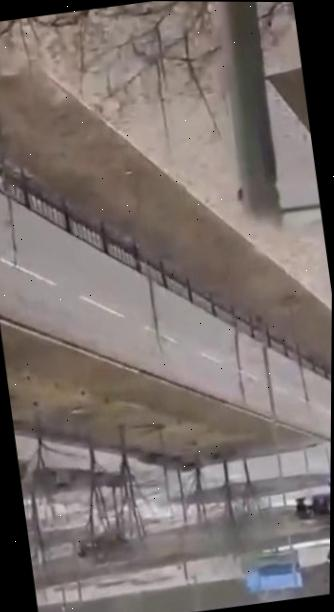truck: (73, 529, 138, 571), (291, 489, 330, 534)
